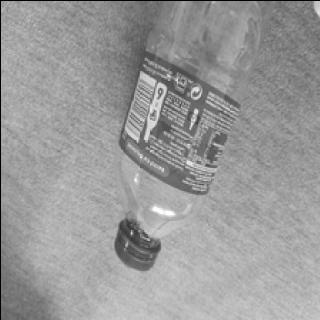plastic_bottles: (103, 0, 279, 275)
